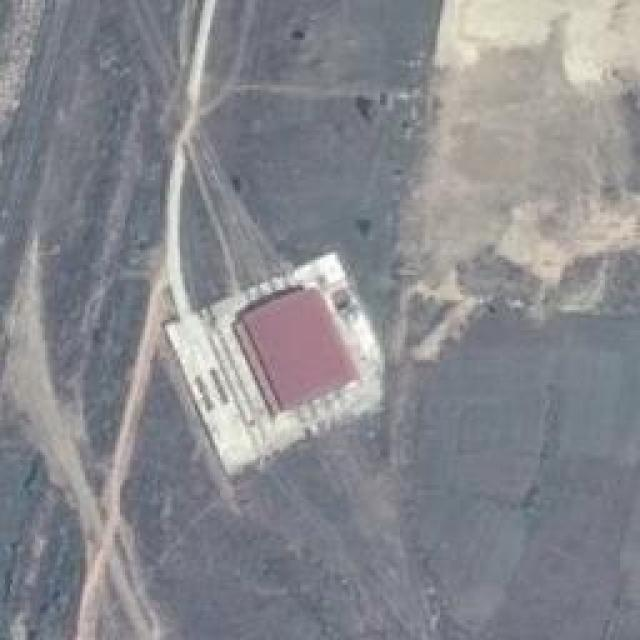City: (155, 248, 387, 502)
Grassland: (0, 0, 638, 638)
